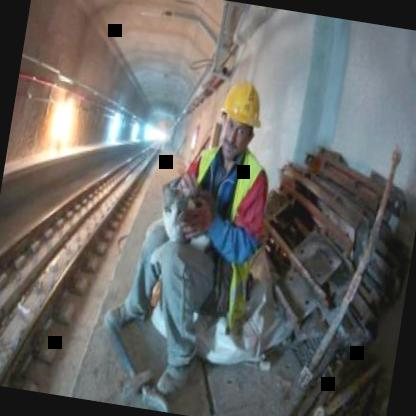helmet: (210, 67, 270, 168)
